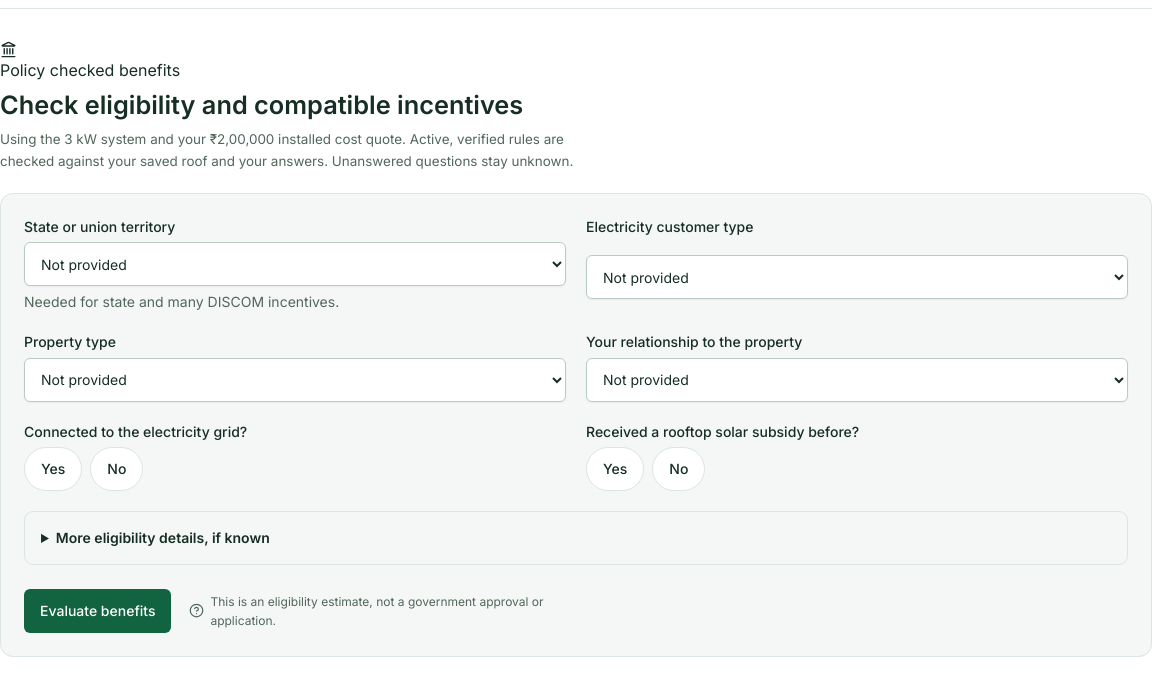
Test case: benefit evaluation UI › does not present a partial zero as determined when another source failed
Step 1. Click the button "Evaluate benefits" → (98, 611), box [24,589,171,633]
(page scrolled)
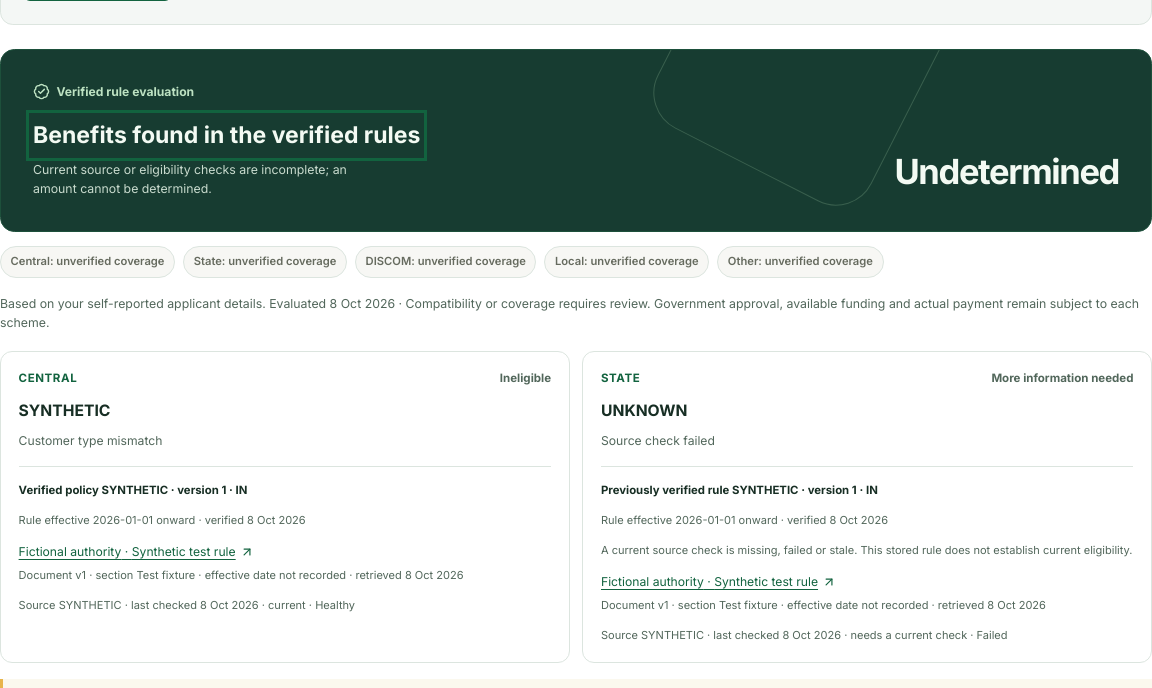
Expected: the heading "Benefits found in the verified rules" is shown, [33,117,420,154]
Expected: the text "Undetermined" is shown, [894,144,1119,199]
Expected: the text "Previously verified rule SYNTHETIC · version 1 · IN" is shown, [601,483,878,497]
